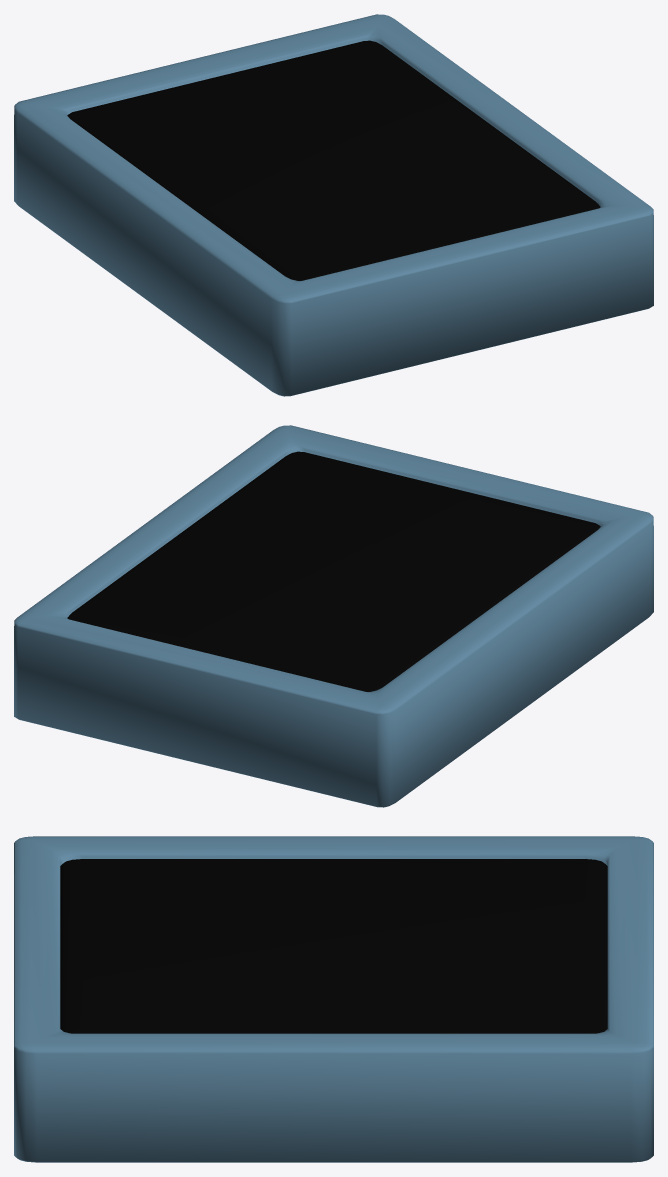
File: TimerDisplay.fbx
3 renders of one model, top to bottom at view 1: azimuth 30°, elevation 25°; view 2: azimuth 150°, elevation 25°; view 3: azimuth 270°, elevation 25°, orthographic. The views are drawn at different scales.
Parts seen in each view (by area): view 1: Cube; view 2: Cube; view 3: Cube.
Part boxes in pixels (x1,y1,x2,y2): Cube: [14, 14, 653, 396]; Cube: [14, 425, 653, 807]; Cube: [14, 836, 653, 1162].
Size of the model in its own units: 400 by 100 by 500.
